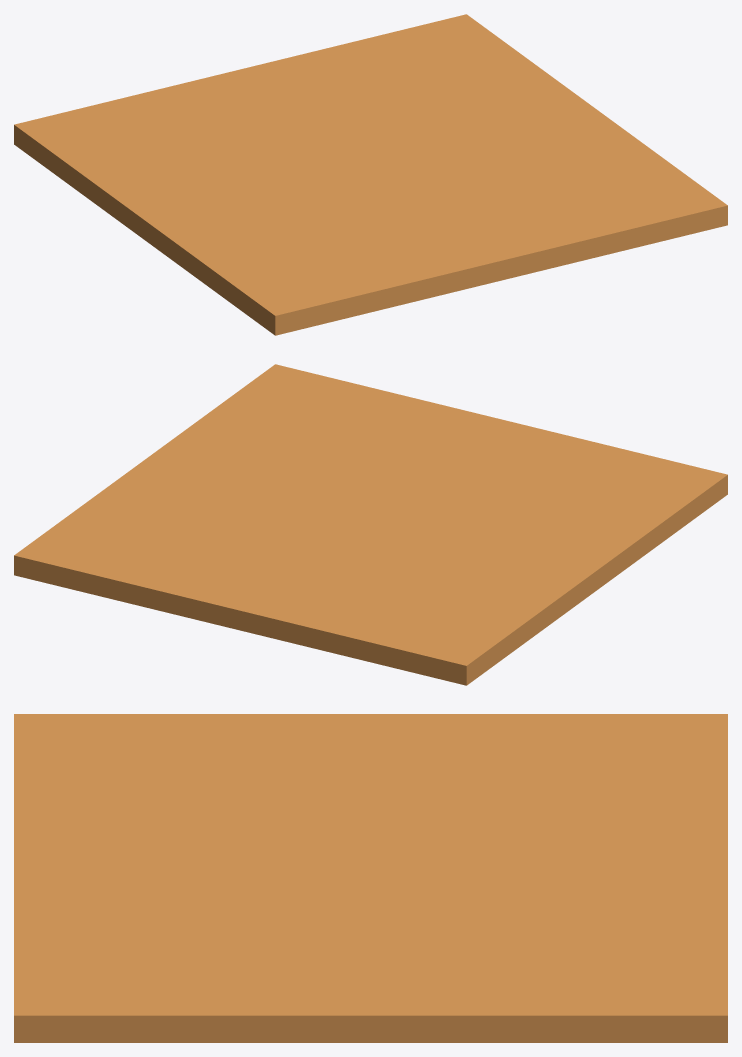
The model's file is Gold_Wide.glb.
The picture shows the model from 3 angles, top to bottom: view 1: azimuth 30°, elevation 25°; view 2: azimuth 150°, elevation 25°; view 3: azimuth 270°, elevation 25°; orthographic projection. The views are drawn at different scales.
Visible parts, largest first — view 1: PF_Golden_3; view 2: PF_Golden_3; view 3: PF_Golden_3.
Part boxes in pixels (x1,y1,x2,y2): PF_Golden_3: (14,14,727,335); PF_Golden_3: (14,364,727,685); PF_Golden_3: (14,714,727,1042).
Bounding box in the file's own units: 1.3 × 0.0543 × 1.3.
Materials: 3 (1 with a texture image).
